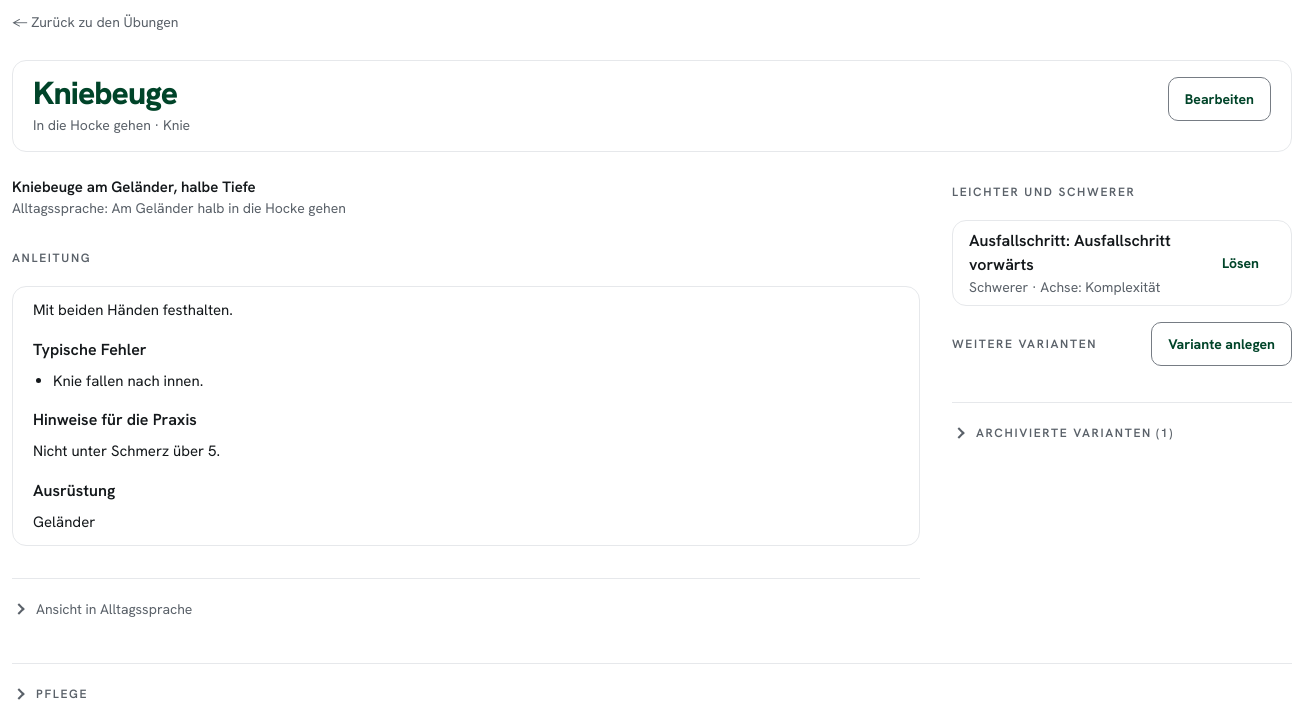
UebungAnsicht (UEB-001, Welle B: Objektseite) › legt eine Variante mit Ausrüstung als Schlagworten an
Click the button "Variante anlegen" at point(1222, 344), box [1151,322,1292,366]
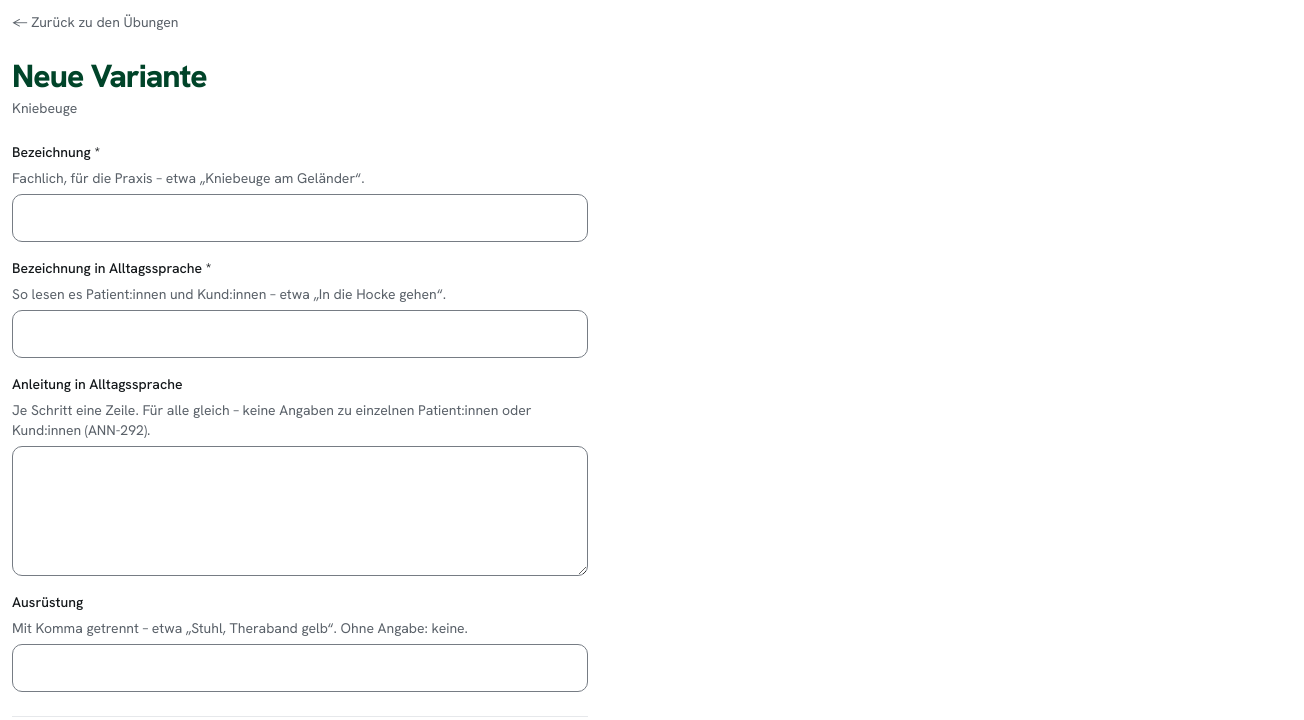
Type "Kniebeuge mit Band" into the field labelled "Bezeichnung *" at point(300, 218), box [12,194,588,242]
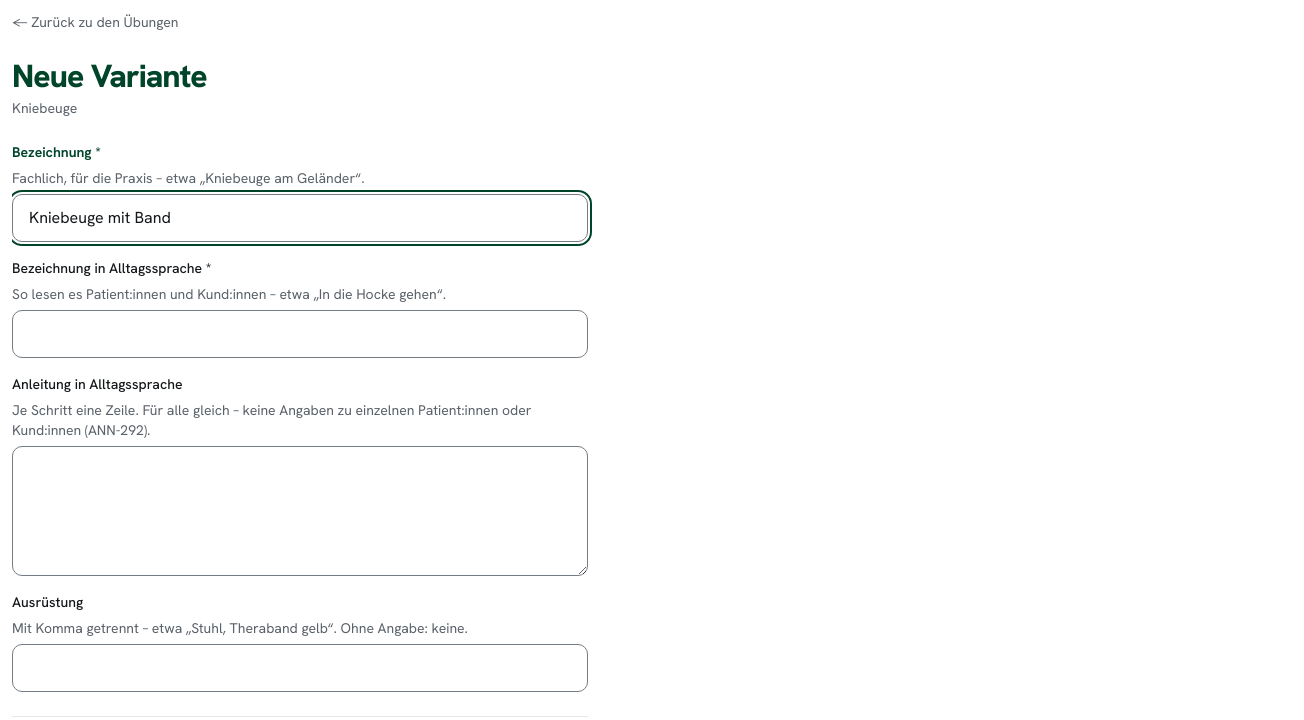
Type "Hocke mit Band" into the field labelled "Bezeichnung in Alltagssprache *" at point(300, 334), box [12,310,588,358]
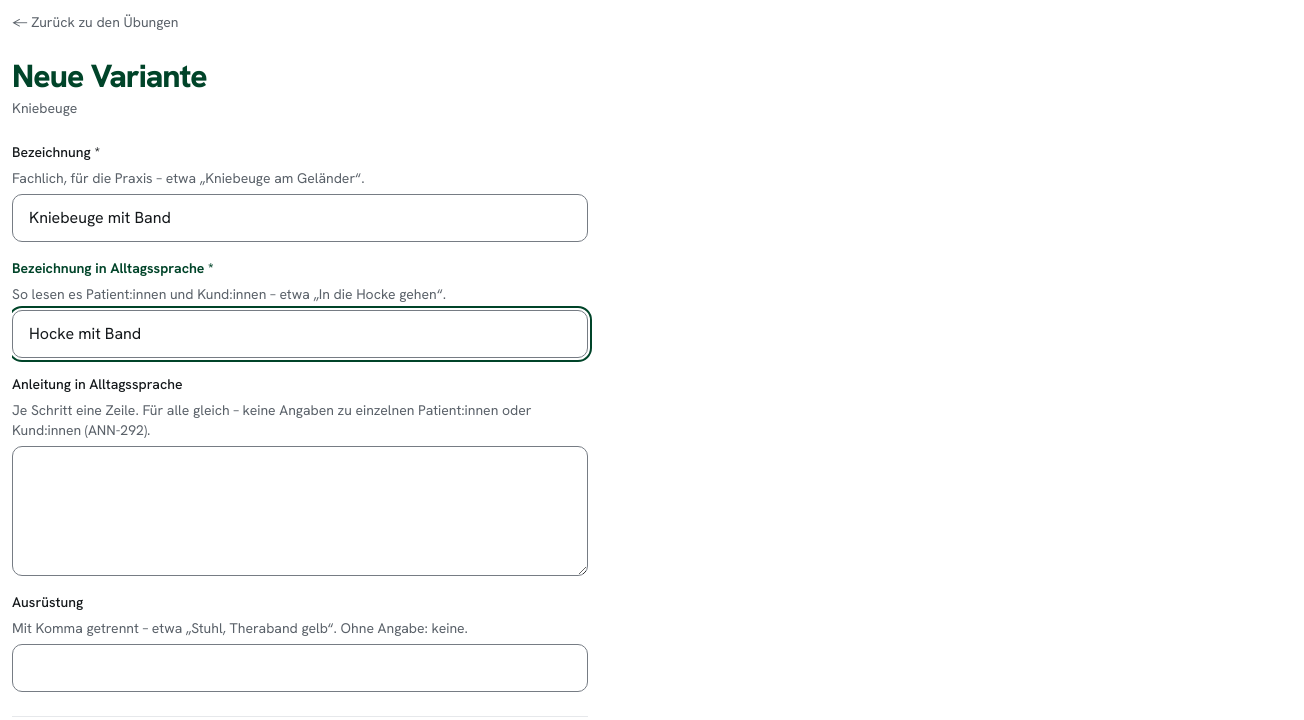
Type "Theraband gelb, , Stuhl" into the field labelled "Ausrüstung" at point(300, 668), box [12,644,588,692]
(page scrolled)
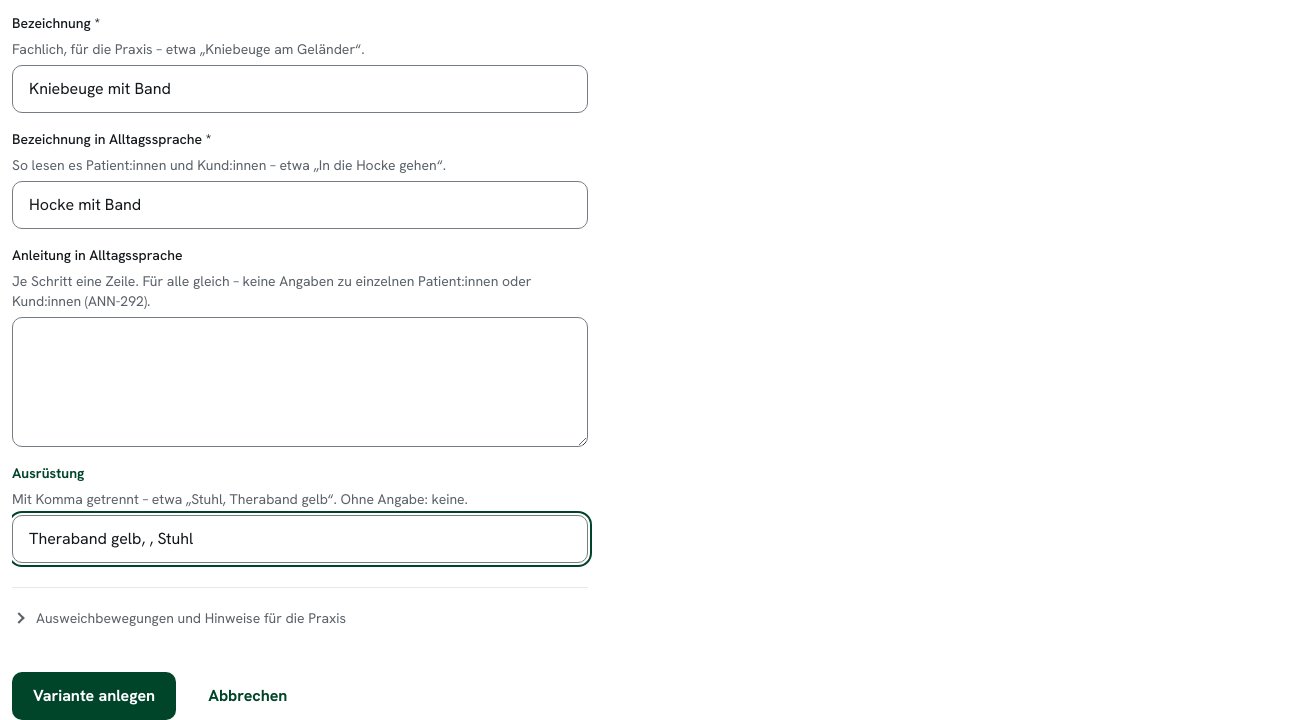
Click the button "Variante anlegen" at point(94, 696), box [12,672,176,719]
(page scrolled)
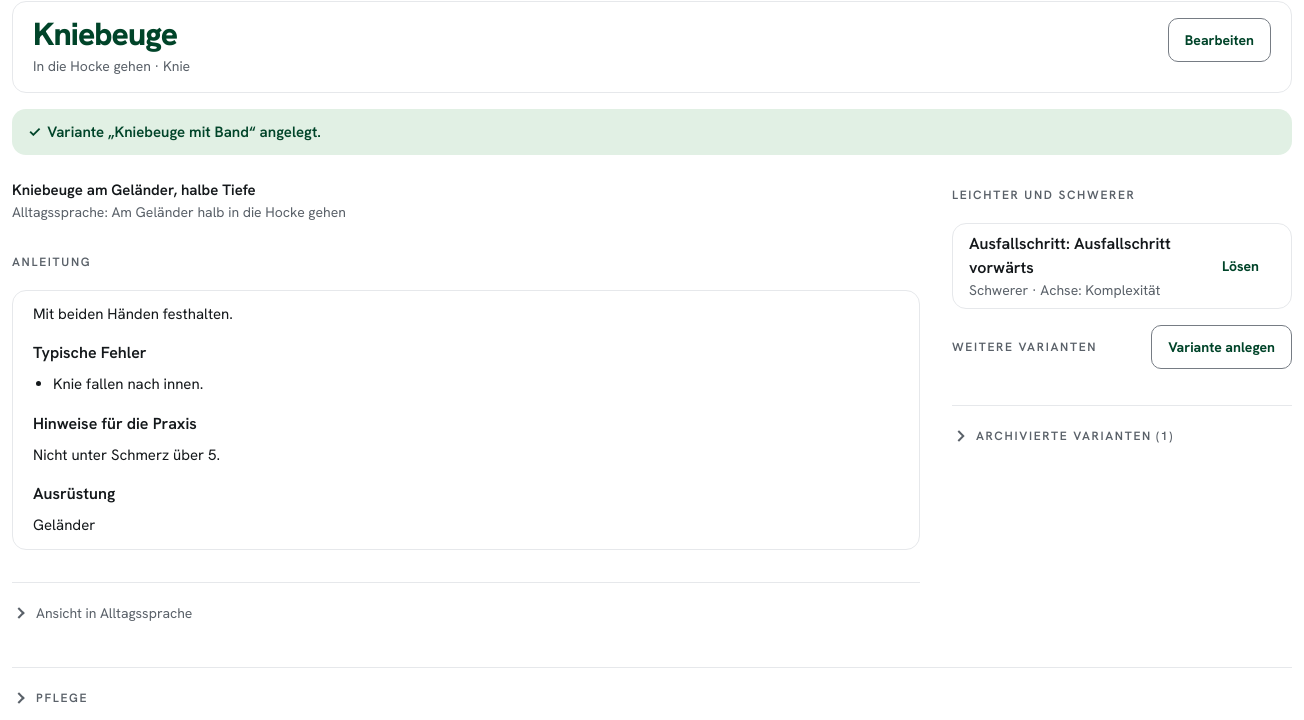
Expected: the text "Variante „Kniebeuge mit Band“ angelegt." is shown, [47,122,321,142]
